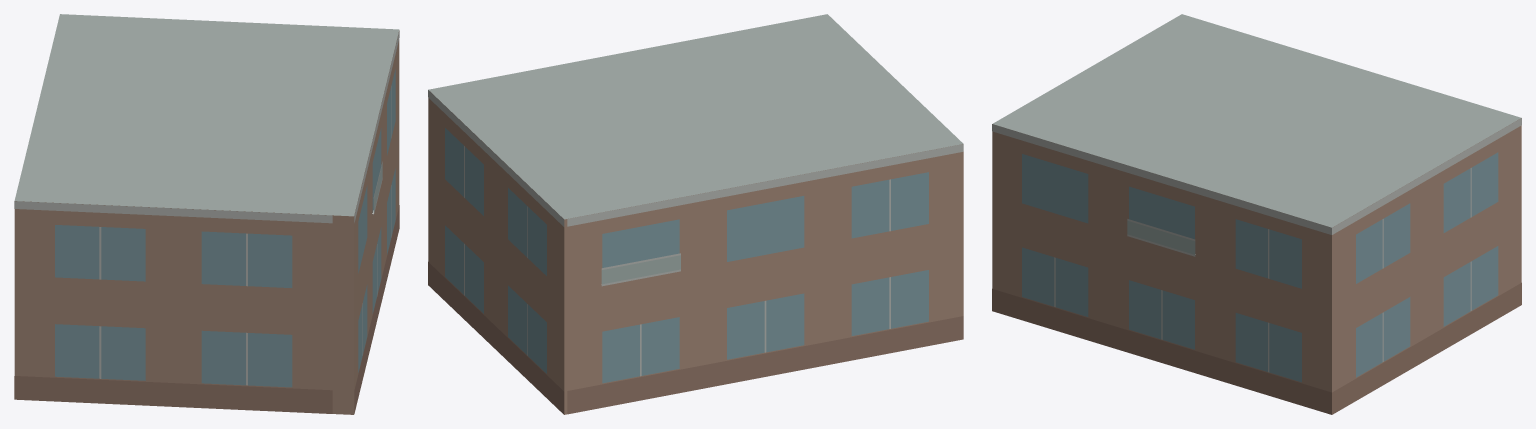
The model's file is survey-upis-32708103.glb.
3 renders of one model, left to right at view 1: azimuth 30°, elevation 25°; view 2: azimuth 150°, elevation 25°; view 3: azimuth 270°, elevation 25°, orthographic. The views are drawn at different scales.
Visible parts, largest first — view 1: survey-upis-32708103.tmp; view 2: survey-upis-32708103.tmp; view 3: survey-upis-32708103.tmp.
Part boxes in pixels (x1,y1,x2,y2): survey-upis-32708103.tmp: (14,14,399,414); survey-upis-32708103.tmp: (428,14,963,414); survey-upis-32708103.tmp: (992,14,1521,414).
Size of the model in its own units: 14.94 by 6.1 by 15.64.
